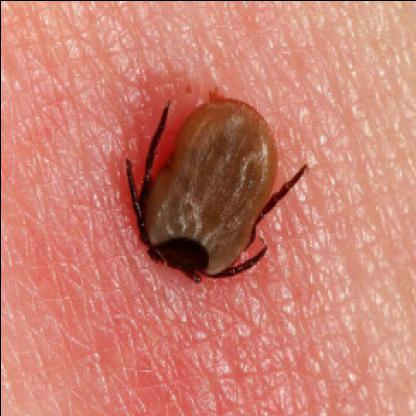Fire ant: (148, 36, 214, 148), (312, 333, 377, 403), (160, 233, 208, 316), (290, 160, 336, 220), (251, 322, 292, 366)
